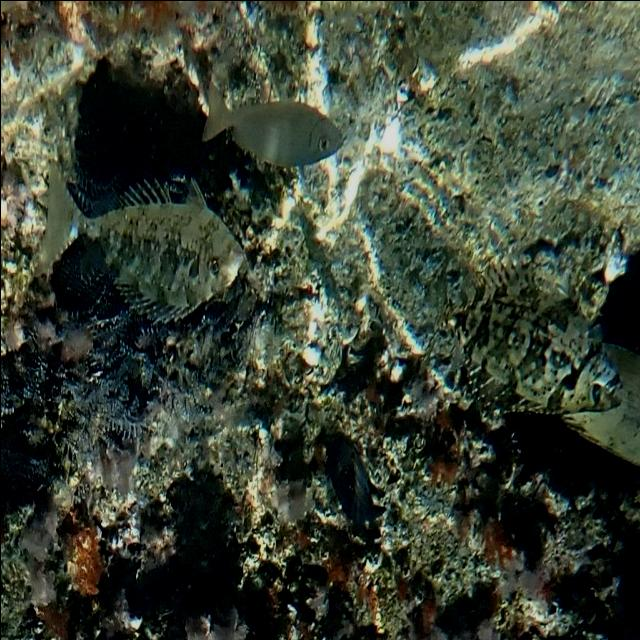Sokar Baligi: (29, 150, 251, 336), (197, 59, 351, 181)
